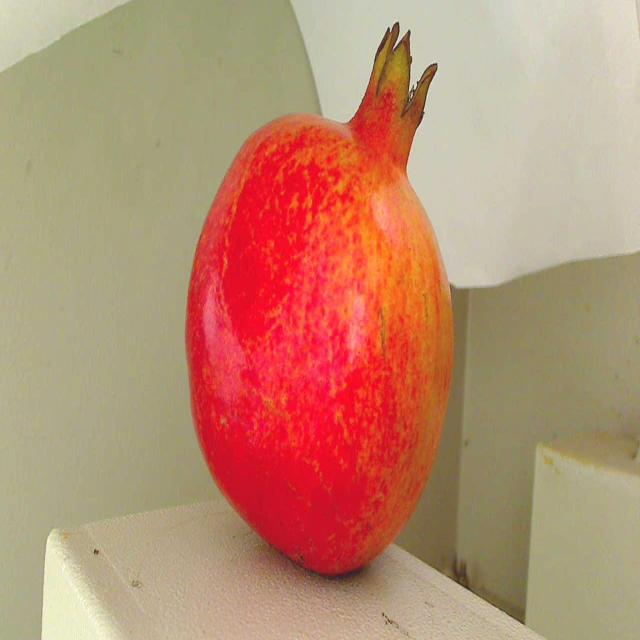pomegranate: (175, 15, 472, 582)
